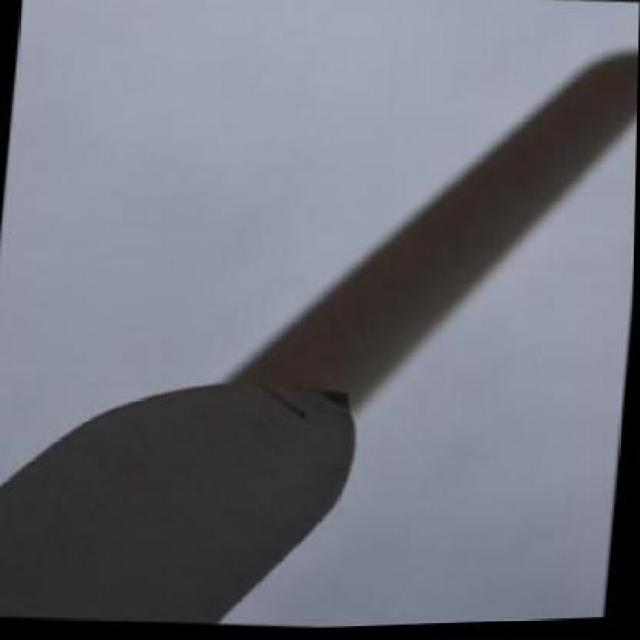Burn Mark: (266, 388, 314, 420)
